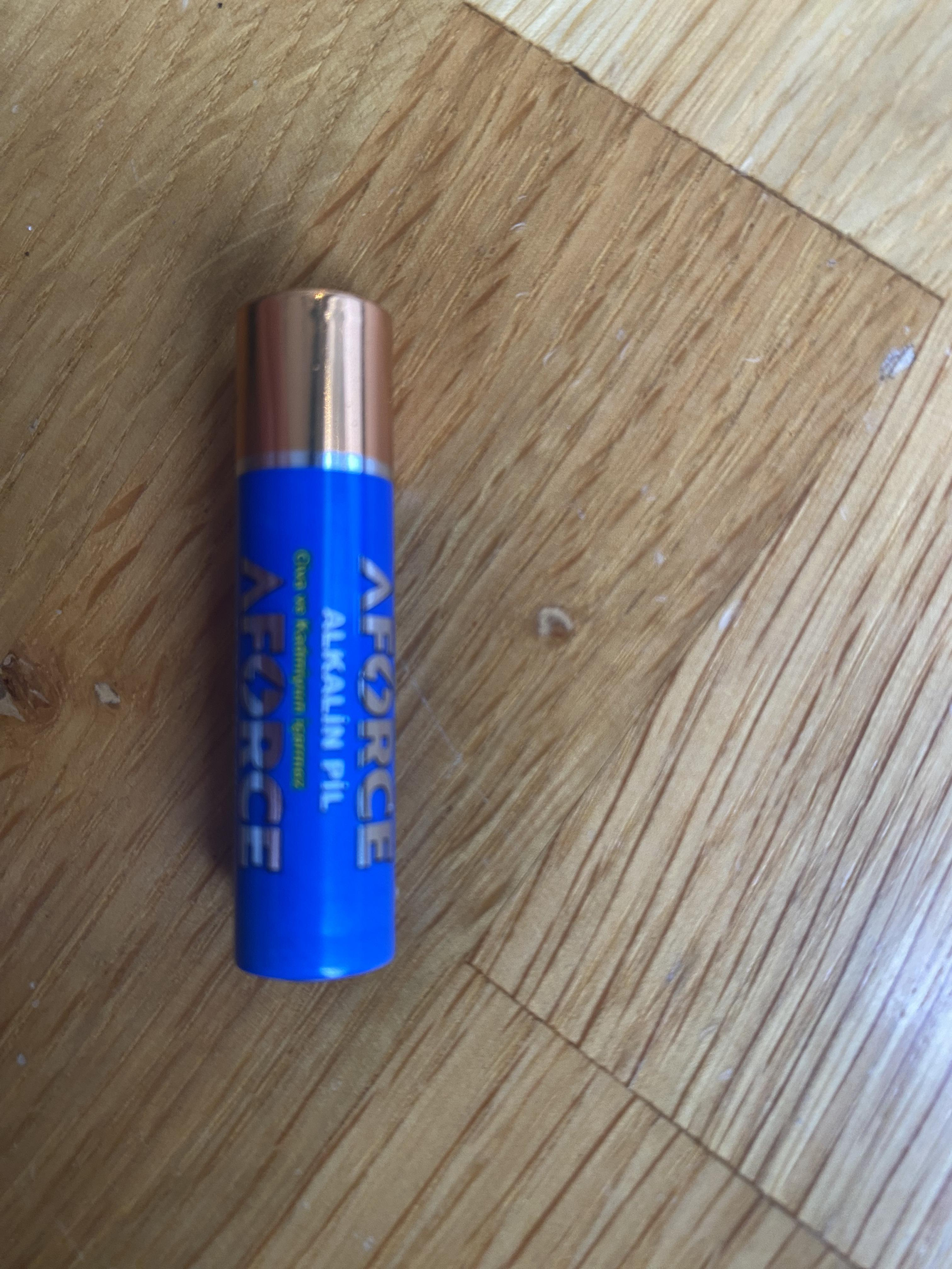AAA: (228, 281, 402, 992)
